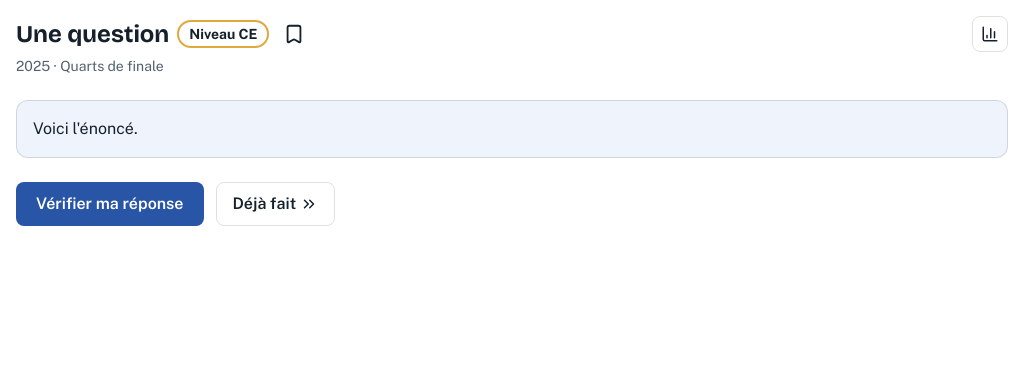
Test: TrainingQuestionPage — edge cases › a question with no detailed correction shows only the short answer, no 'Explication détaillée' section
The image size is (1025, 389).
Expected: the text "Voici l'énoncé." is shown, x1=33 y1=119 x2=138 y2=138
Click the button "Vérifier ma réponse": click(110, 204) x1=16 y1=182 x2=204 y2=226
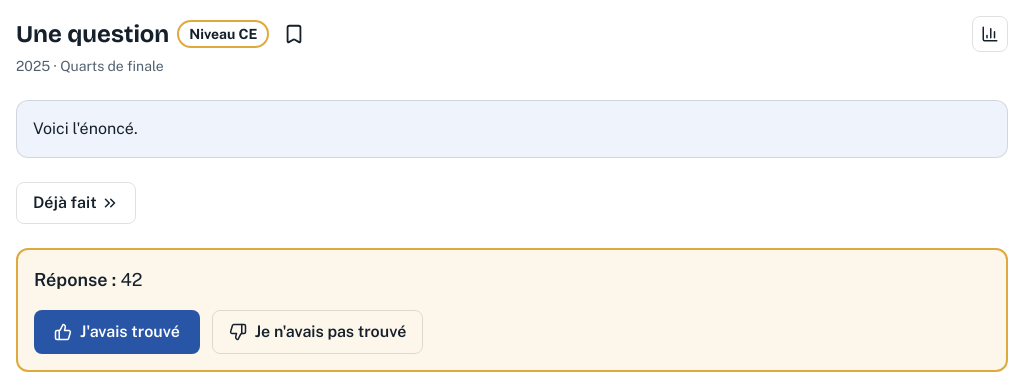
Expected: the number of buttons "J'avais trouvé" is 1, x1=34 y1=310 x2=200 y2=354
Expected: the text "Réponse :" is shown, x1=34 y1=269 x2=116 y2=290
Expected: the text "42" is shown, x1=120 y1=269 x2=142 y2=290
